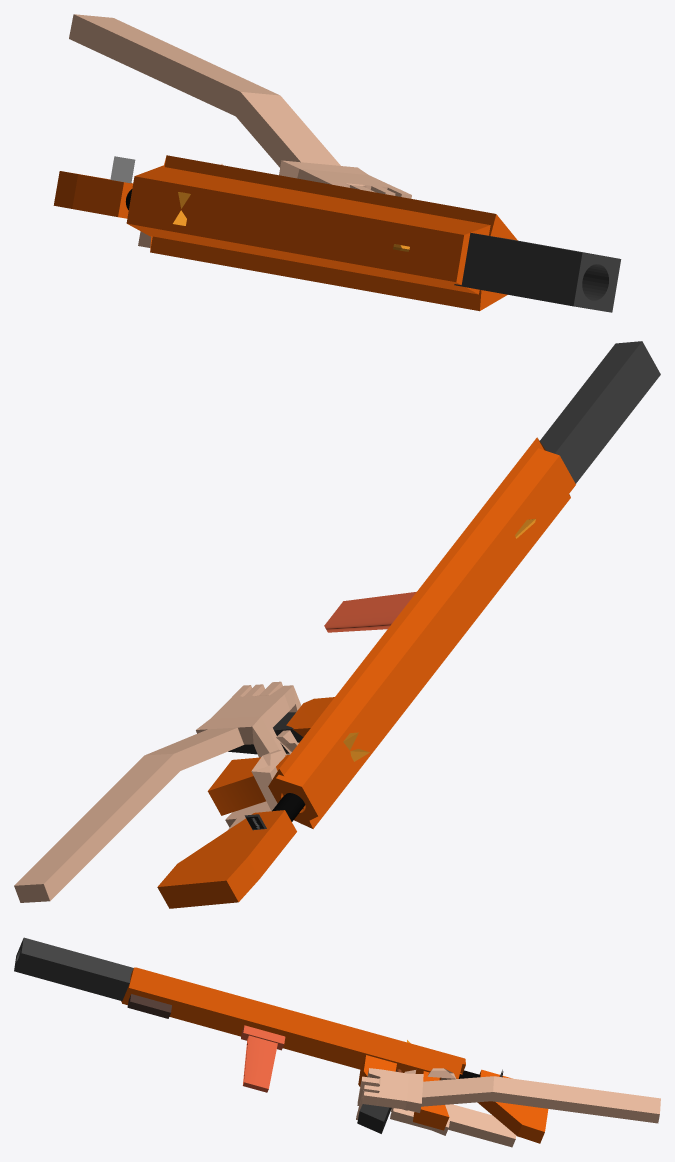
The model's file is ar reload 7fbx.fbx.
The picture shows the model from 3 angles, top to bottom: view 1: azimuth 30°, elevation 25°; view 2: azimuth 150°, elevation 25°; view 3: azimuth 270°, elevation 25°; orthographic projection. The views are drawn at different scales.
Parts seen in each view (by area): view 1: Cube.011, Cube.013, Cube.008, Cube.005, Cube.009, Plane; view 2: Cube.011, Cube.013, Cube.005, Cube.009, Cube.008, Cube.012, Cube.002, Cube, Cube.010; view 3: Cube.008, Cube.013, Cube.005, Cube, Cube.012, Cube.009, Cube.002, Cube.001, Cube.004, Cube.003, Cube.010, Cube.011.
Part boxes in pixels (x1,y1,x2,y2): Cube.011: [126, 165, 490, 294]; Cube.013: [69, 14, 411, 198]; Cube.008: [150, 155, 517, 311]; Cube.005: [454, 232, 621, 312]; Cube.009: [53, 171, 133, 218]; Plane: [110, 156, 135, 183]; Cube.011: [276, 448, 575, 823]; Cube.013: [14, 681, 301, 902]; Cube.005: [540, 341, 660, 483]; Cube.009: [157, 810, 296, 908]; Cube.008: [268, 437, 570, 828]; Cube.012: [324, 592, 416, 632]; Cube.002: [207, 755, 289, 815]; Cube: [225, 728, 298, 829]; Cube.010: [286, 697, 334, 736]; Cube.008: [121, 967, 463, 1080]; Cube.013: [356, 1068, 660, 1123]; Cube.005: [14, 937, 133, 1000]; Cube: [390, 1068, 516, 1147]; Cube.012: [241, 1025, 285, 1092]; Cube.009: [477, 1069, 548, 1143]; Cube.002: [413, 1071, 449, 1130]; Cube.001: [283, 1039, 365, 1068]; Cube.004: [357, 1104, 391, 1133]; Cube.003: [127, 994, 171, 1018]; Cube.010: [358, 1055, 396, 1086]; Cube.011: [135, 967, 465, 1074].
Size of the model in its own units: 415 by 688 by 2129.
11 materials, 1 textured.
